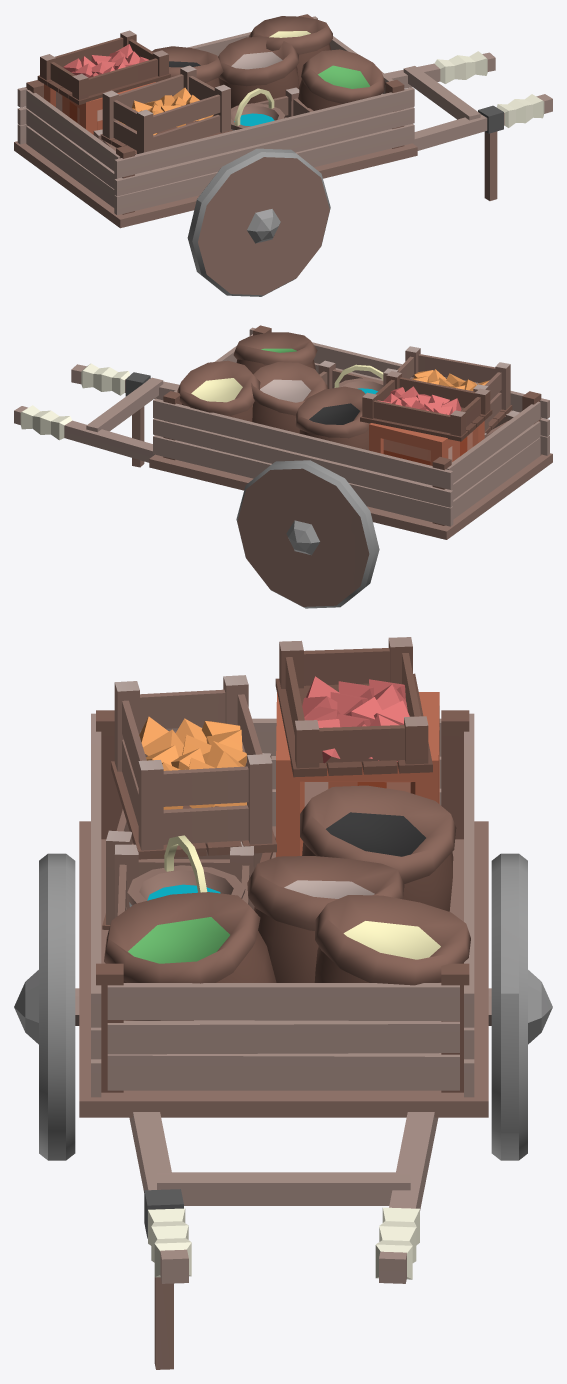
The model's file is cart_001.glb.
3 renders of one model, top to bottom at view 1: azimuth 30°, elevation 25°; view 2: azimuth 150°, elevation 25°; view 3: azimuth 270°, elevation 25°, orthographic. The views are drawn at different scales.
Visible parts, largest first — view 1: cart_001; view 2: cart_001; view 3: cart_001.
Part boxes in pixels (x1,y1,x2,y2): cart_001: (14,14,552,296); cart_001: (14,325,552,608); cart_001: (14,637,552,1369).
Size of the model in its own units: 3.35 by 1.42 by 1.78.
Materials: 1 (1 with a texture image).
